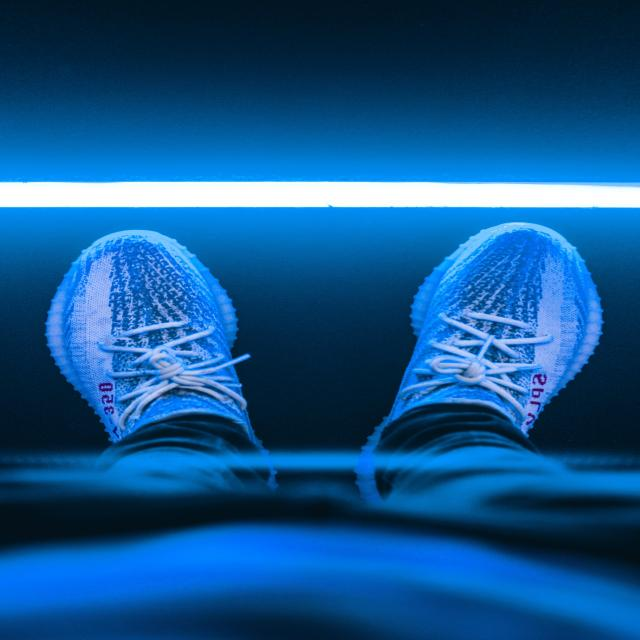shoe: (353, 217, 608, 512), (32, 226, 287, 480)
